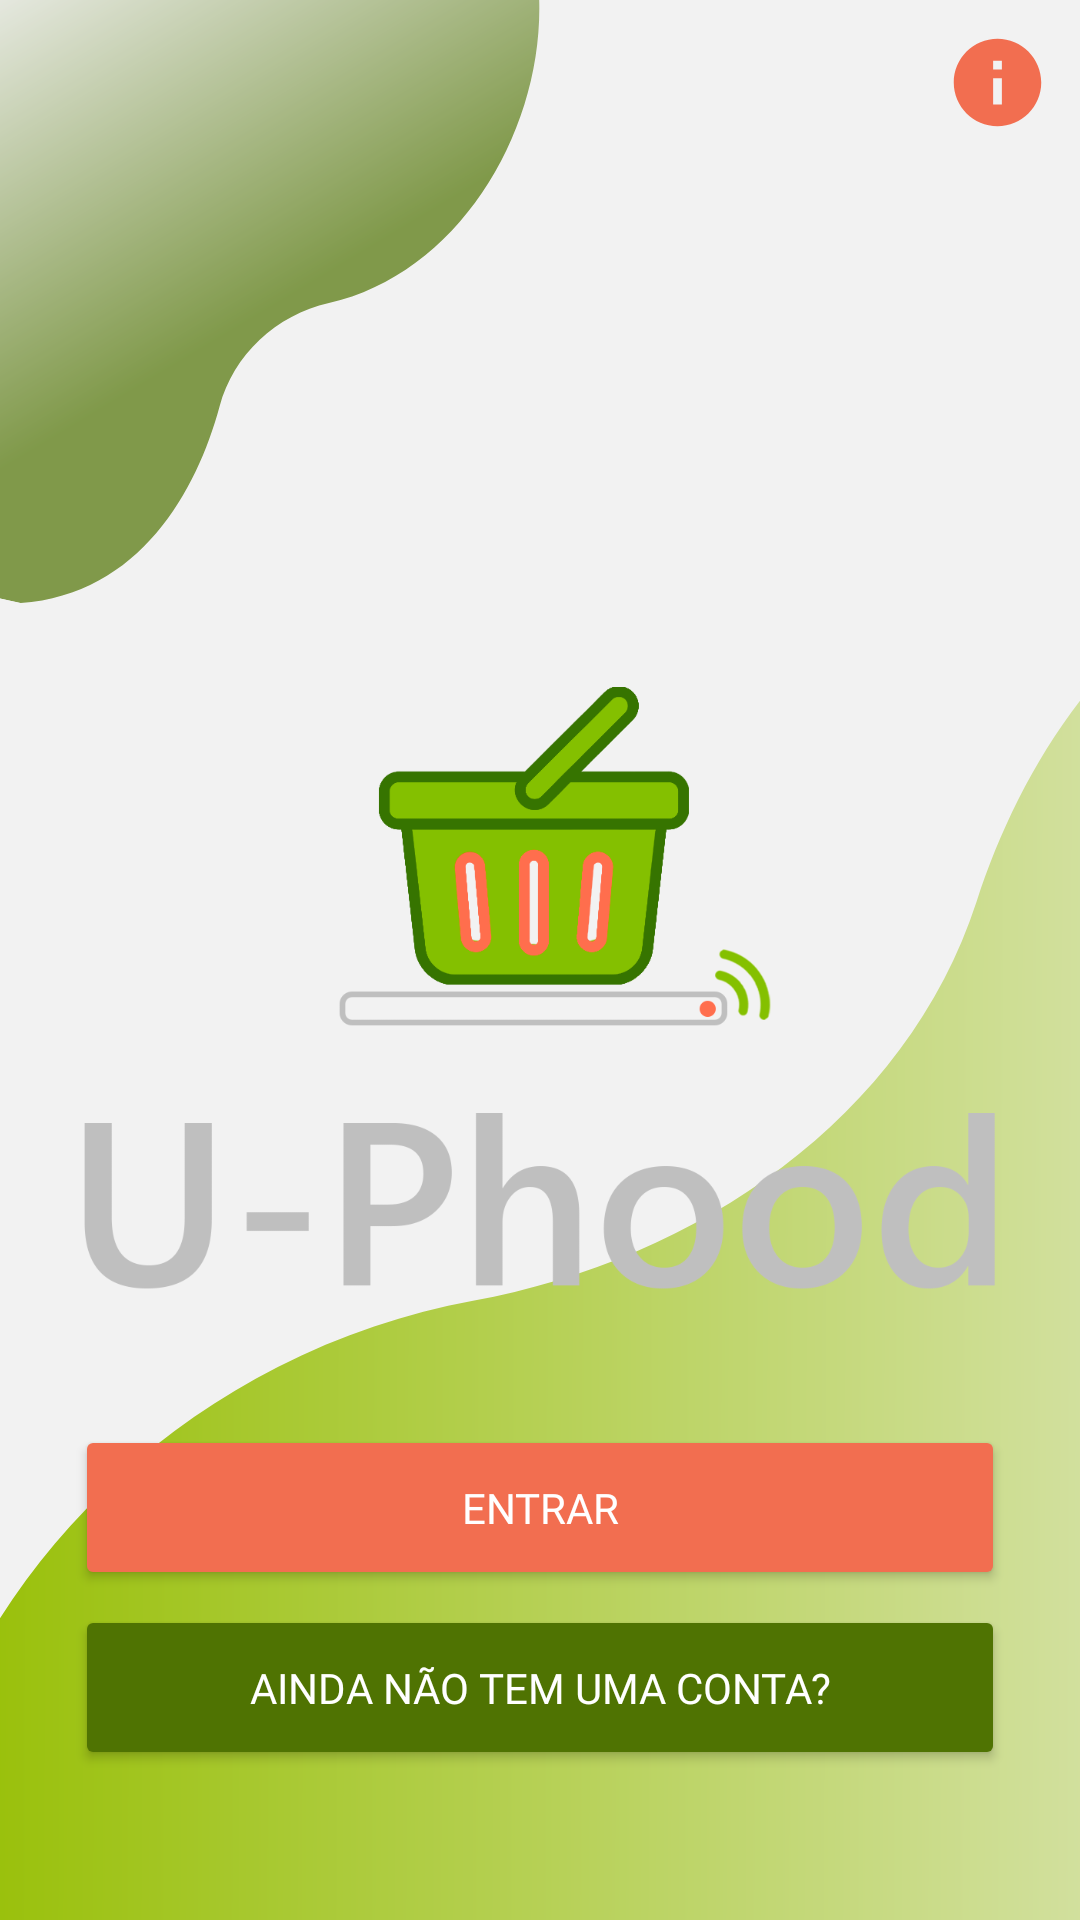

Icon bounding boxes for this 1080×1920 phone screenshot, format (x1, y1, x2, y2):
info: (953, 38, 1042, 127)
